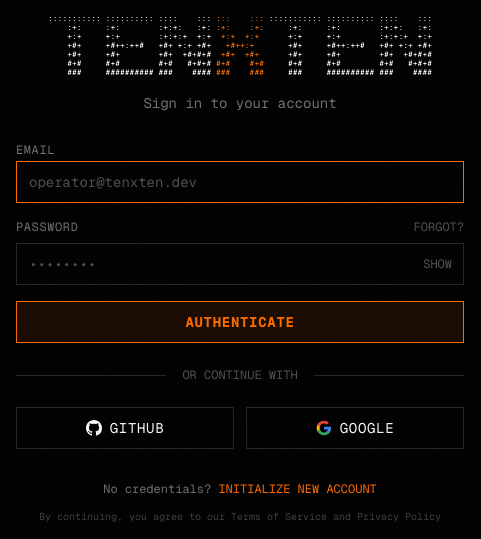
Scenario: Login Page › should show loading state when submitting
Type "test@example.com" into the field labelled "Email" at (240, 182), box x1=16 y1=161 x2=464 y2=203
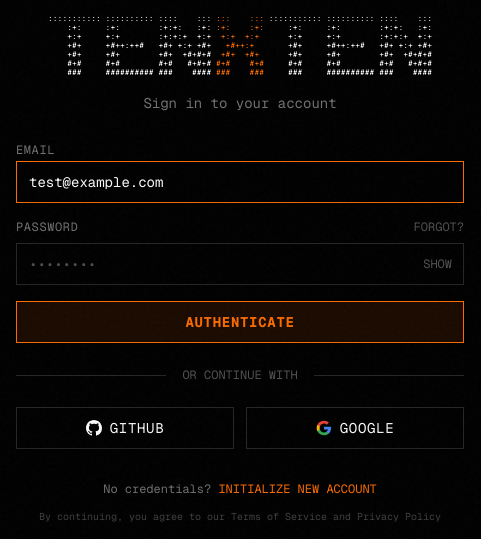
Type "password123" into the password field labelled "Password" at (240, 264), box x1=16 y1=243 x2=464 y2=285
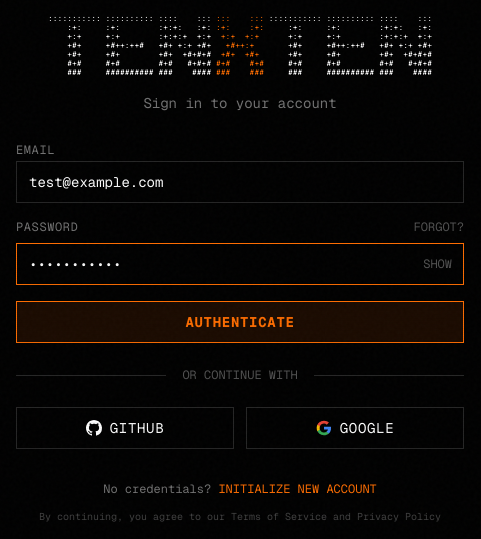
Click the button "AUTHENTICATE" at (240, 322), box x1=16 y1=301 x2=464 y2=343
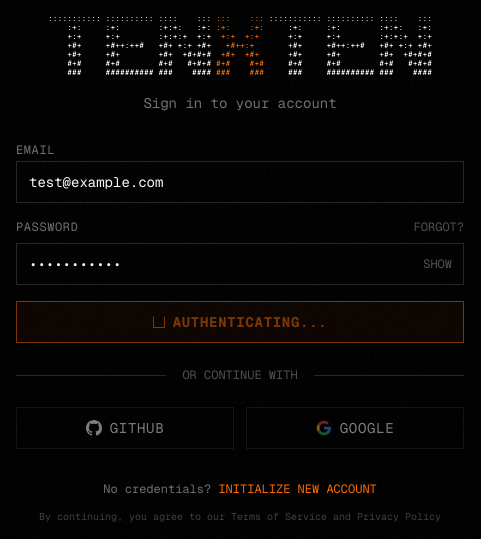
Result: the button "AUTHENTICATING..." is shown at x1=16 y1=301 x2=464 y2=343
